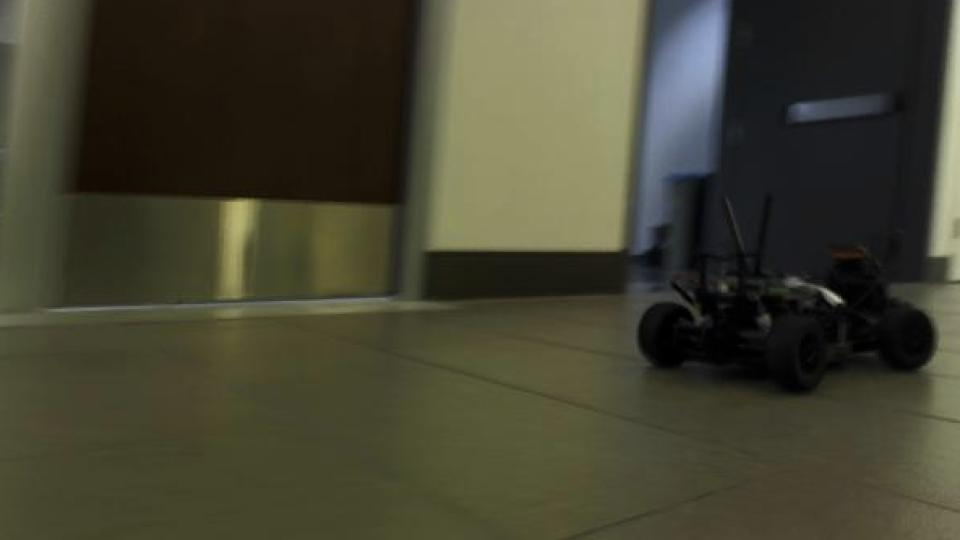car: (632, 190, 940, 394)
